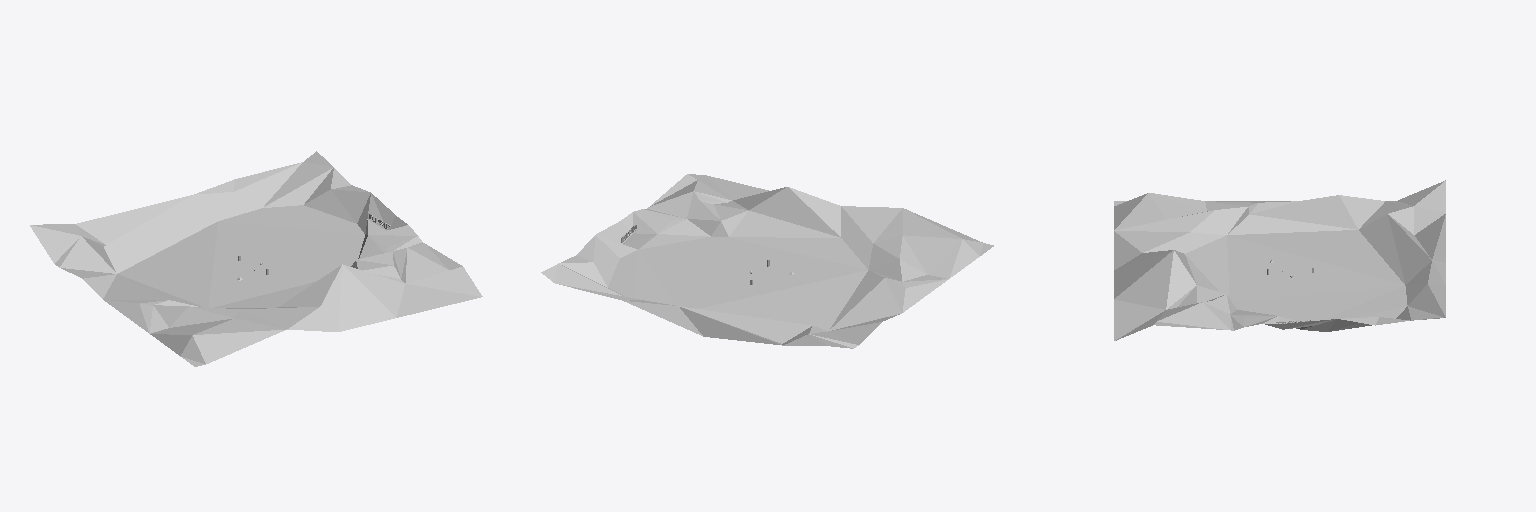
The model's file is Mterrain.obj.
3 views of the same model, side by side, from view 1: azimuth 30°, elevation 25°; view 2: azimuth 150°, elevation 25°; view 3: azimuth 270°, elevation 25° (orthographic).
Parts seen in each view (by area): view 1: SubMesh_0; view 2: SubMesh_0; view 3: SubMesh_0.
Boxes of the visible parts, x1,y1,x2,y2 form: SubMesh_0: [30, 151, 482, 366]; SubMesh_0: [541, 174, 993, 348]; SubMesh_0: [1114, 180, 1445, 340].
Bounding box in the file's own units: 1280 × 190 × 1280.